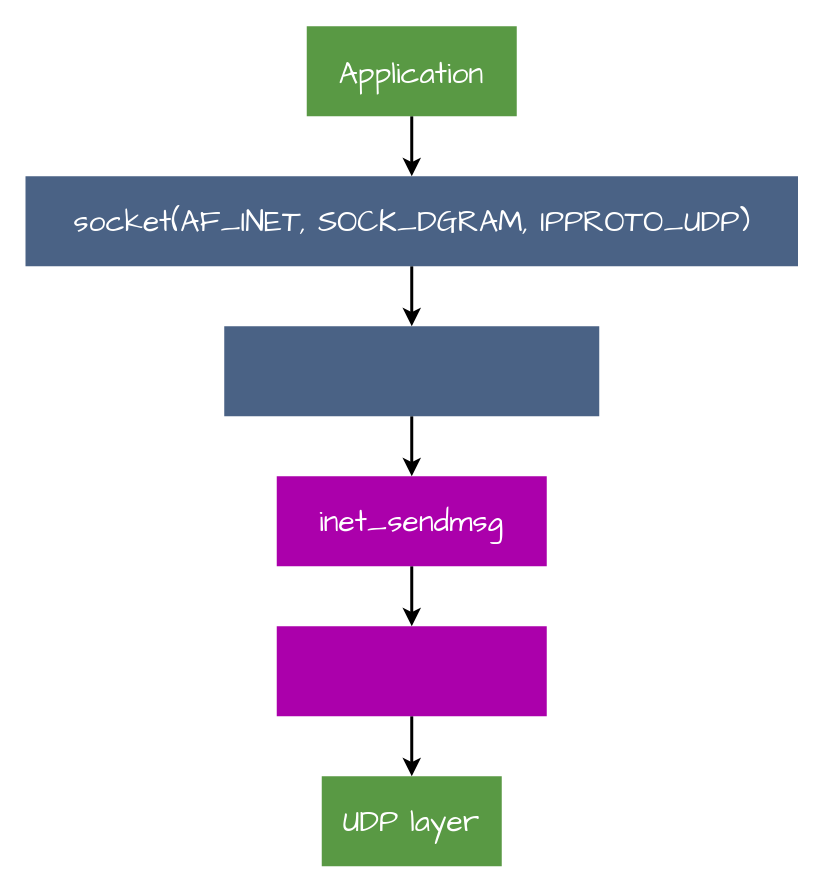
This 824x891 diagram has some shape labels left out. The centre of each missing label's shape, as x and y in pixels:
"inet_autobind" goes at pixel 411 671.
"send_to(socket, ...)" goes at pixel 411 371.
